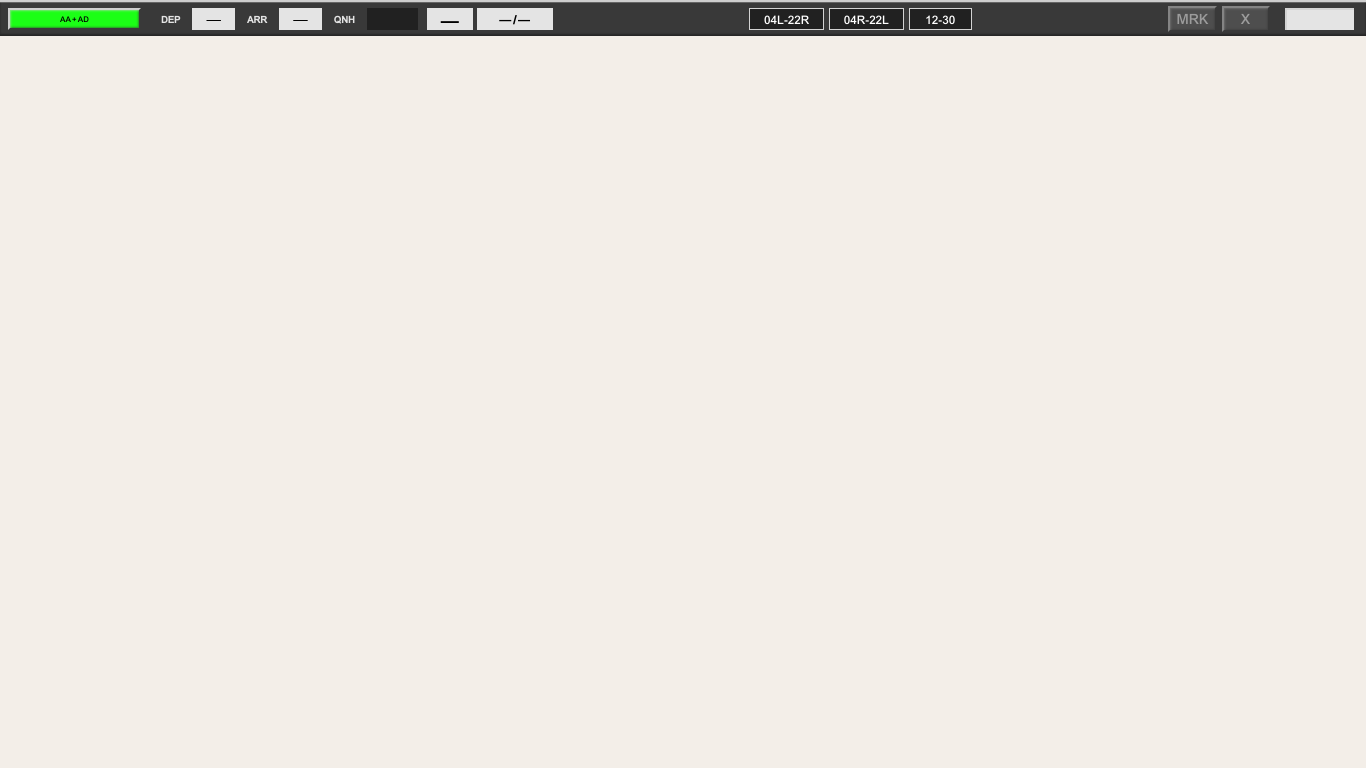
it: scope selector controls › disables unsupported fullscreen
Step 1. Click the button "AA + AD" → {"x": 74, "y": 19}, box left=8, top=8, right=141, bottom=30
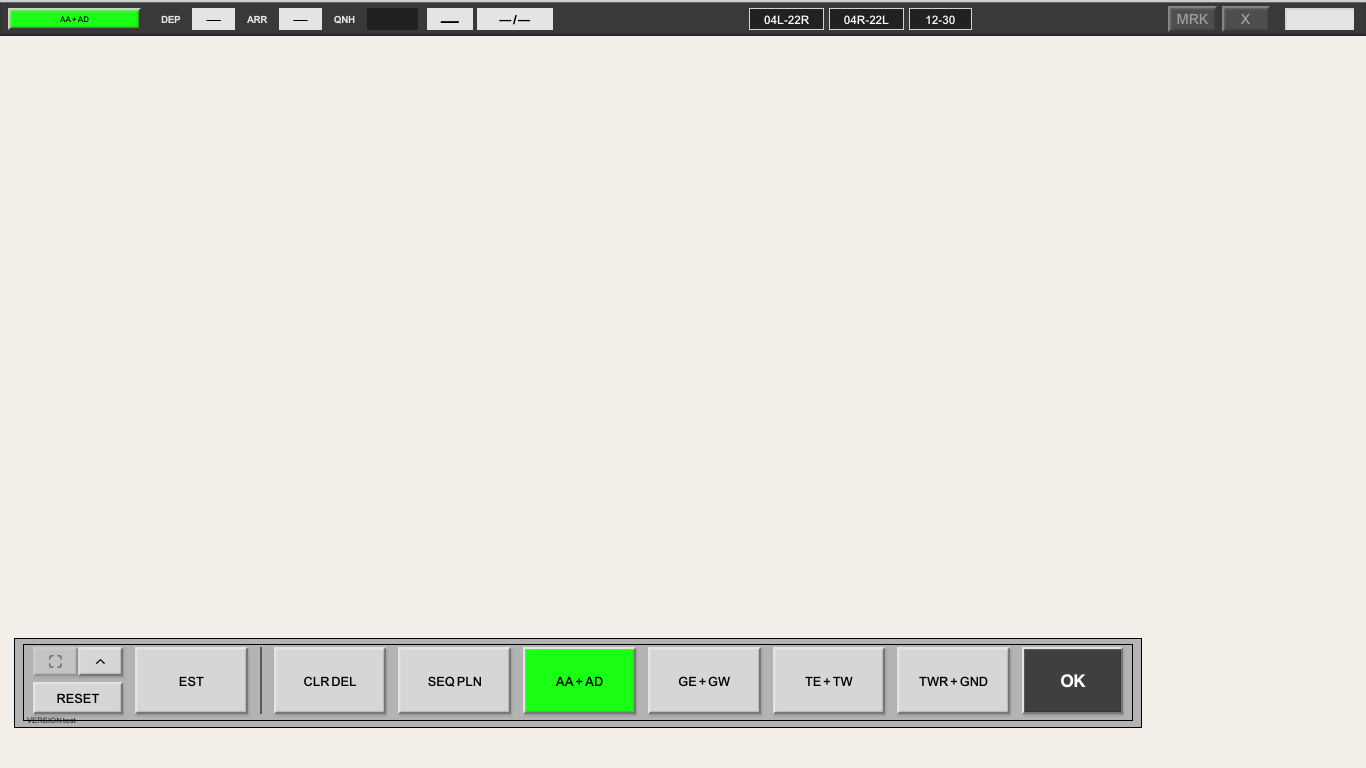
Expected: the button named "Enter fullscreen" is disabled, left=33, top=647, right=78, bottom=676
